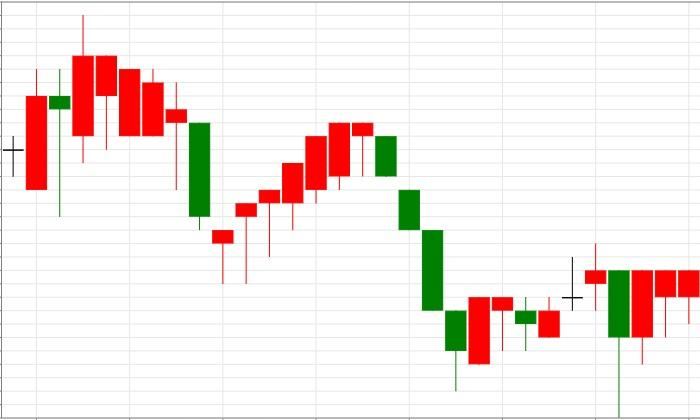three_black_crows_fall: (212, 122, 443, 311)
